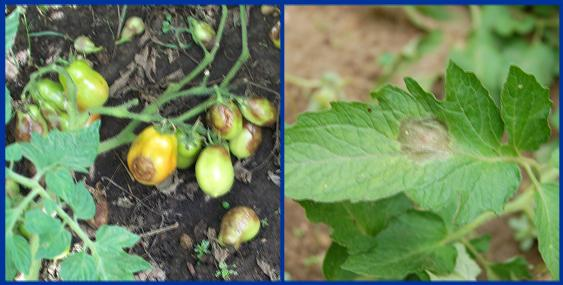Tomato leaf late blight: (285, 64, 549, 229)
